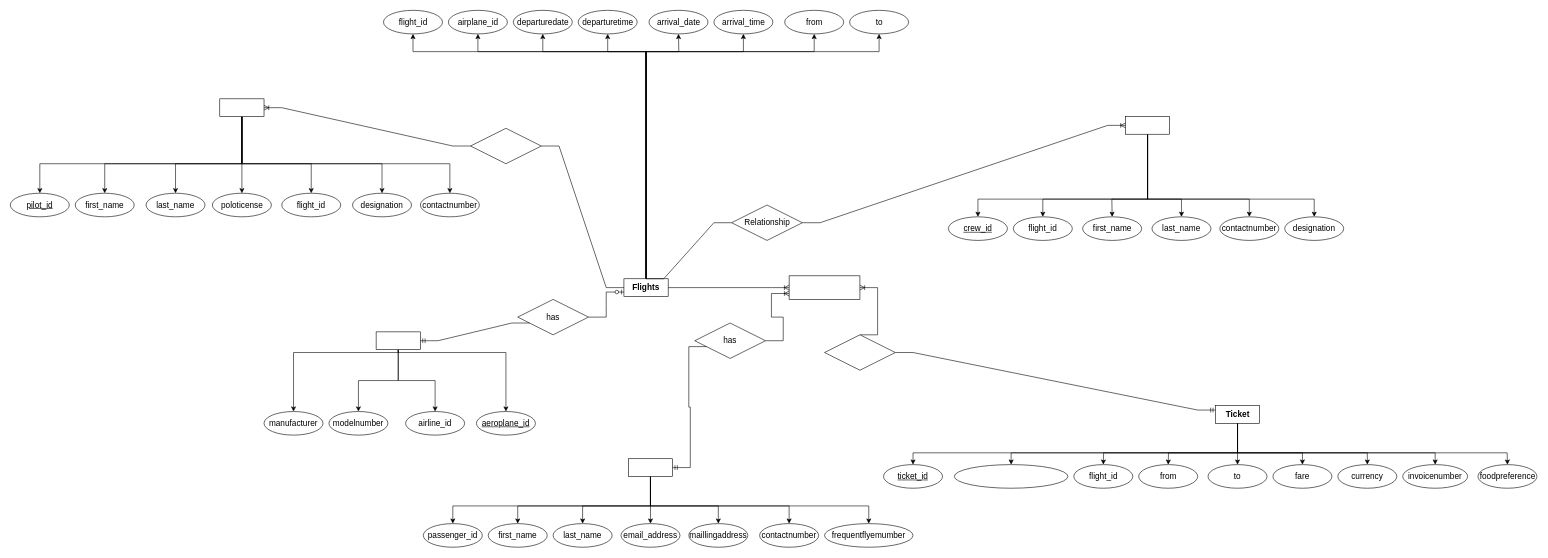
Some shapes in this 1548 by 558 pixel diagram are drawn without their labels. Here are the shapes that lost their labels. From the top down, the box of each, then its label:
(219, 98, 264, 117): Pilot
(1125, 116, 1170, 134): Crew
(470, 128, 541, 164): Pilots
(789, 275, 860, 299): Boarding_Pass
(376, 331, 420, 350): Airline
(824, 334, 895, 370): gets
(628, 458, 673, 476): Passenger
(954, 464, 1068, 488): passenger_id(purrchased))
